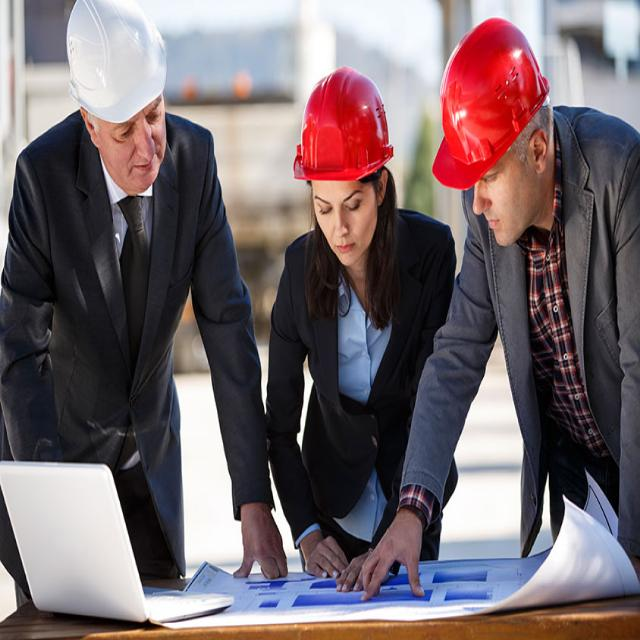red helmet: (429, 16, 559, 193), (288, 63, 400, 189)
white helmet: (60, 1, 174, 123)
